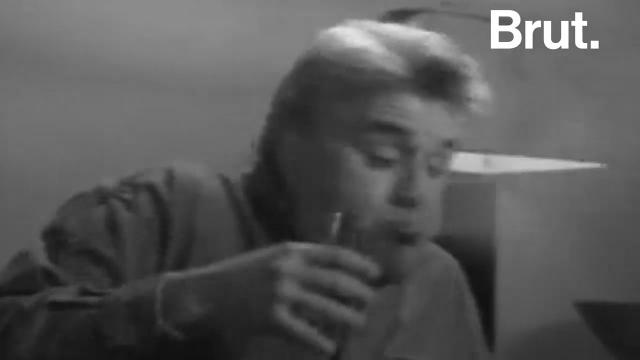spit: (322, 122, 617, 257)
